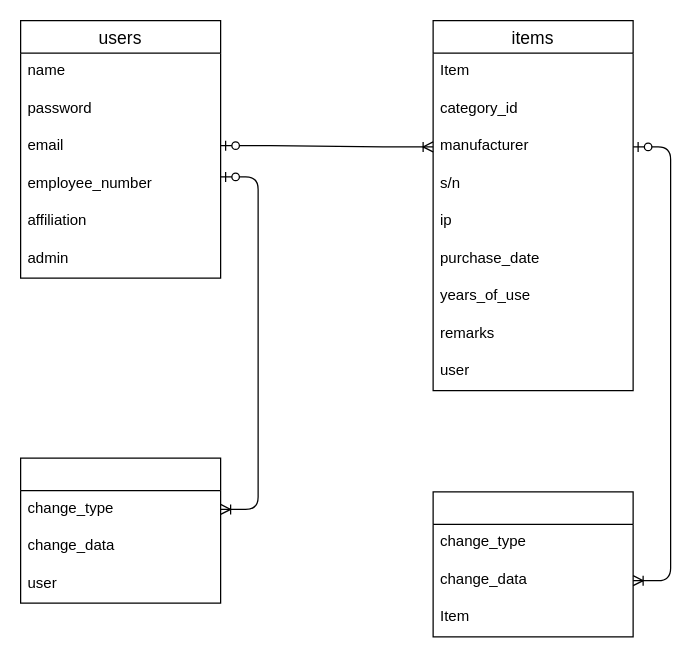
Some shapes in this 691 by 658 pixel diagram are drawn without their labels. Here are the shapes that lost their labels. From the top down, the box of each, then its label:
(19, 457, 221, 603): user-histories
(432, 491, 633, 637): item-histories
